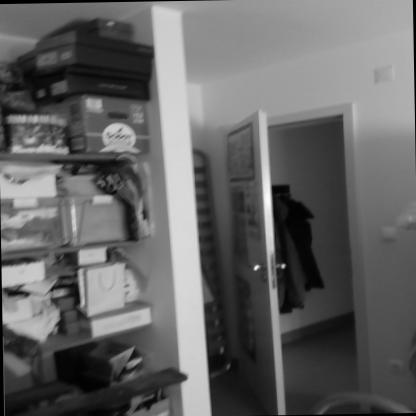semi: (209, 95, 387, 416)
